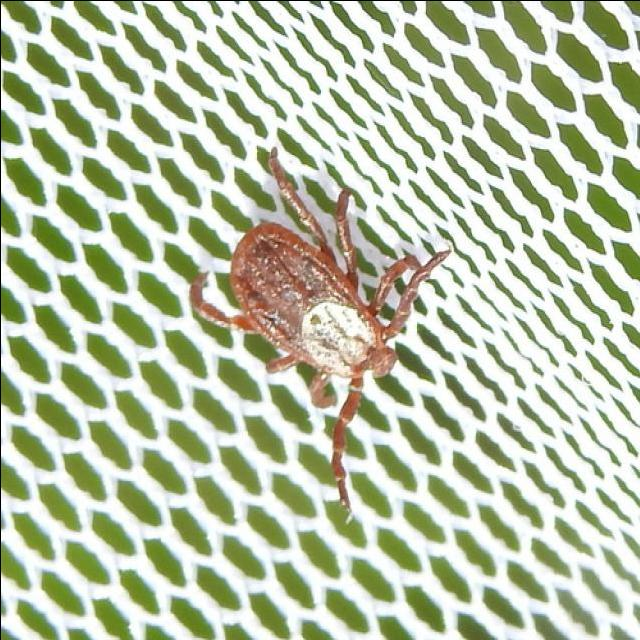Dermacentor Reticulatus-F: (188, 145, 449, 508)
